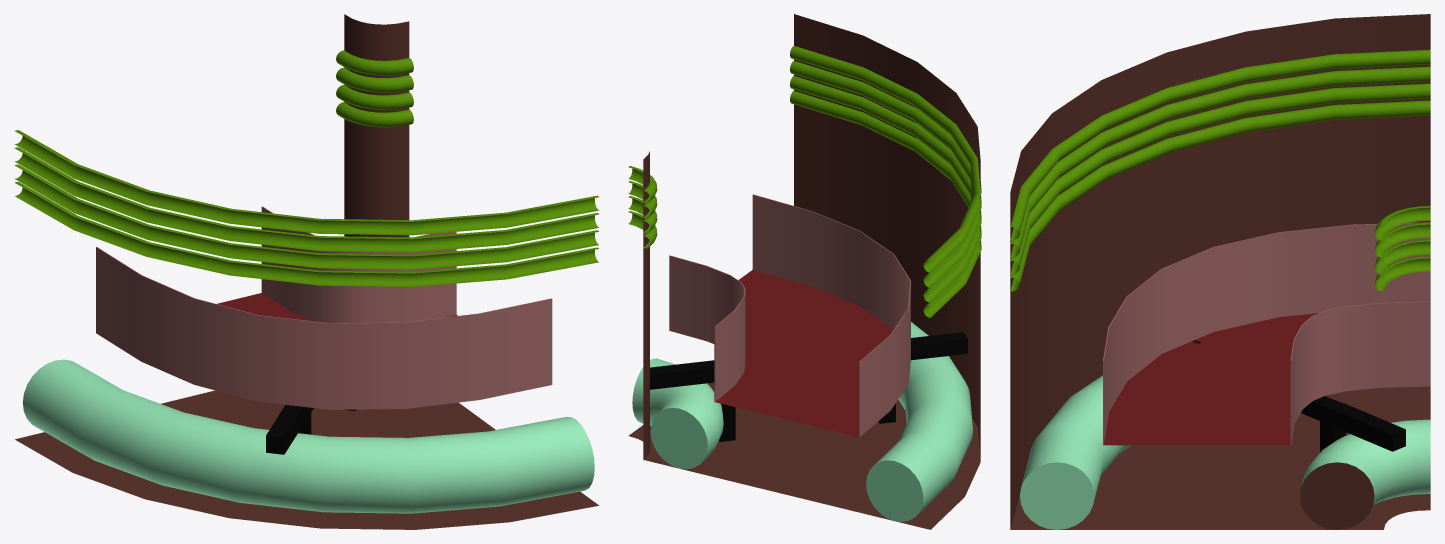
Rendered from SideCurvedPiece.fbx.
3 views of the same model, side by side, from view 1: azimuth 30°, elevation 25°; view 2: azimuth 150°, elevation 25°; view 3: azimuth 270°, elevation 25° (orthographic). The views are drawn at different scales.
Visible parts, largest first — view 1: SideCurvedPiece; view 2: SideCurvedPiece; view 3: SideCurvedPiece.
Boxes of the visible parts, x1,y1,x2,y2 form: SideCurvedPiece: (14, 14, 599, 529); SideCurvedPiece: (628, 14, 981, 529); SideCurvedPiece: (1010, 14, 1430, 529).
Bounding box in the file's own units: 4.5 × 4 × 4.5.
